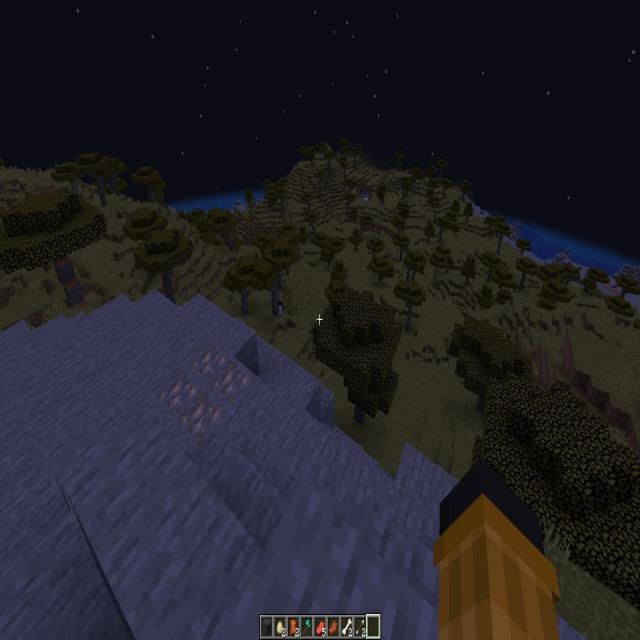Skeleton: (279, 307, 282, 320)
